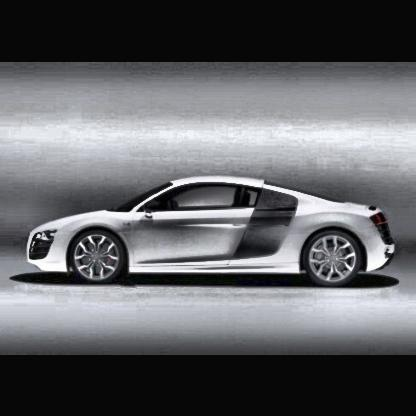Audi R8 Coupe 2012: (28, 177, 397, 288)
